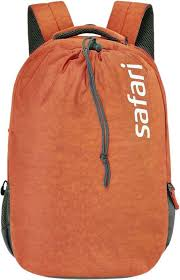backpack: (2, 2, 178, 277)
